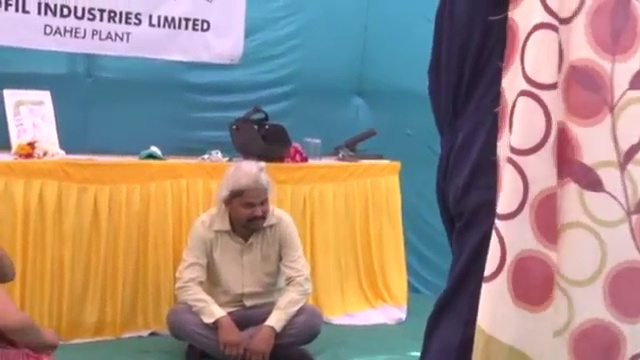helmet_off: (223, 164, 269, 236)
person: (420, 1, 511, 360), (168, 161, 324, 360)
